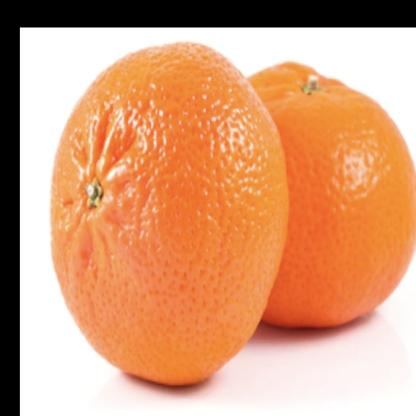fresh: (49, 38, 416, 382)
